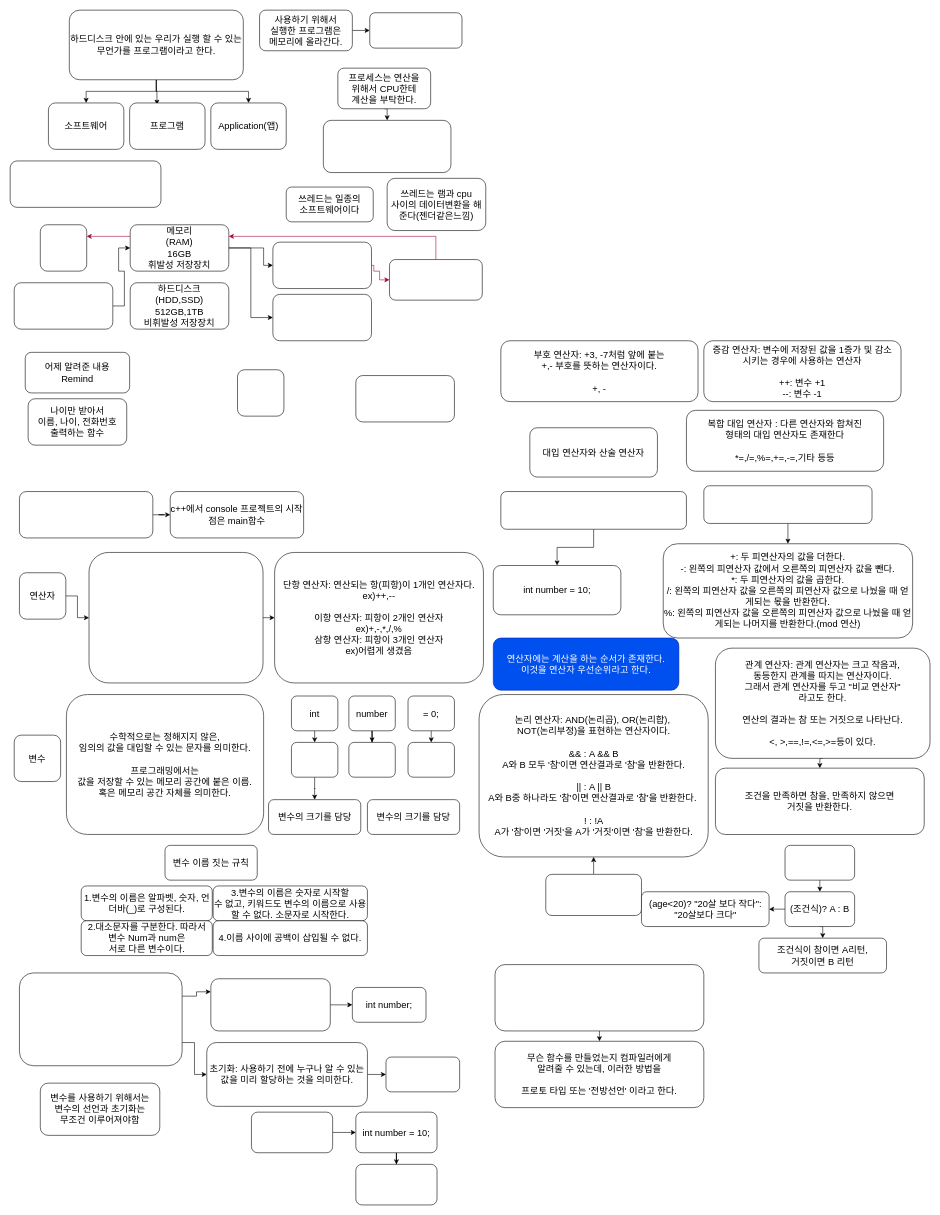
Some shapes in this 940 by 1215 pixel diagram are drawn without their labels. The box of each missing label's shape, as (x1, y1, x2, y2) in pixels:
CPU 연산장치: (272, 242, 371, 289)
DataType (자료형): (291, 742, 338, 777)
GPU (그래픽카드) 연산장치: (272, 294, 371, 341)
int main() { }: (19, 491, 153, 538)
number = 0;: (385, 1056, 460, 1092)
기본적으로 내가 만든 함수는 main함수 위에 있어야 한다 main함수 아래에 있으면 못찾는다: (494, 964, 704, 1031)
대입 연산자(=): 연산자 오른쪽에 있는 값을 연산자 왼쪽에 있는 변수에 대입한다.: (500, 491, 686, 529)
대입할 값: (407, 742, 454, 777)
만질 수 있느냐 없느냐로 하드웨어와 소프트웨어 구분: (10, 160, 161, 207)
모니터 (출력장치): (40, 224, 87, 271)
뭔가 프로그램 실행한 결과: (389, 259, 482, 300)
변수 이름: (348, 742, 395, 777)
변수를 사용하는 방법. 1. 변수를 선언한다. 2. 변수를 초기화한다. 3. 저장된 값을 사용한다.: (19, 972, 182, 1066)
산술 연산자: 연산자 오른쪽에 있는 값을 연산자 왼쪽에 연산한다.: (703, 485, 872, 523)
삼항 연산자: (784, 845, 855, 880)
선언: 사용하기 위해서 미리 알려주는 것을 의미한다.: (210, 978, 330, 1031)
선언과 동시에 초기화: (251, 1112, 333, 1153)
위에서 10은 변수가 아닌 상수(Literal)이다.: (355, 1164, 437, 1205)
조건문을 사용하기 위한 연산자: (545, 874, 641, 916)
키보드, 마우스 (입력장치): (14, 282, 113, 329)
특정 연산을 요구할 때 사용하는 약속된 기호다. Operator 라고 한다. 산술 연산자 -> +,-,*,++,--,/,%: (88, 552, 263, 683)
프로세스라고 한다.: (369, 12, 462, 48)
프로세스의 부탁을 들어주는 역할을 하는 중간 요소를 쓰레드라고 한다 (Thread): (323, 120, 451, 173)
